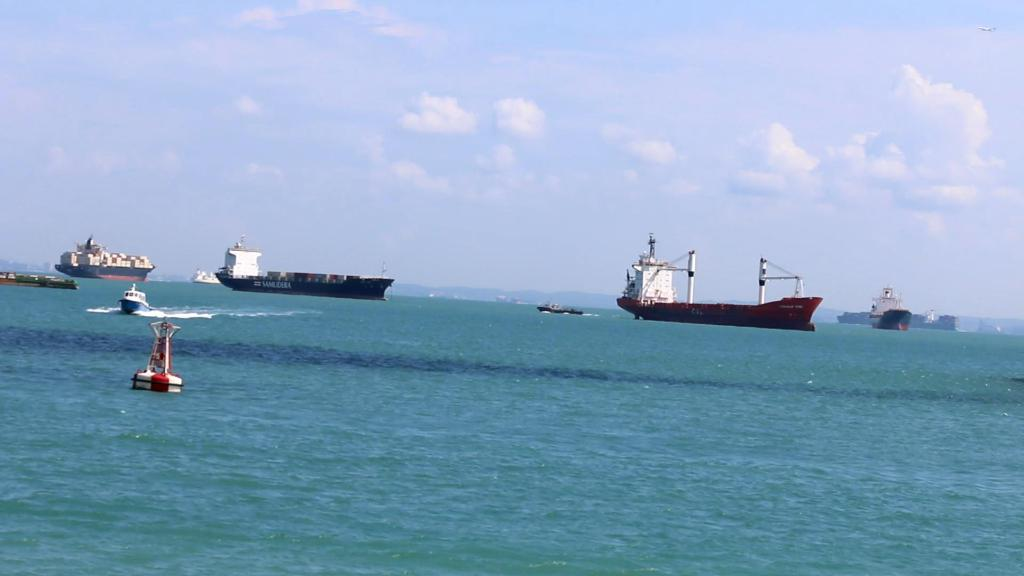PassengerShip: (192, 268, 220, 284)
